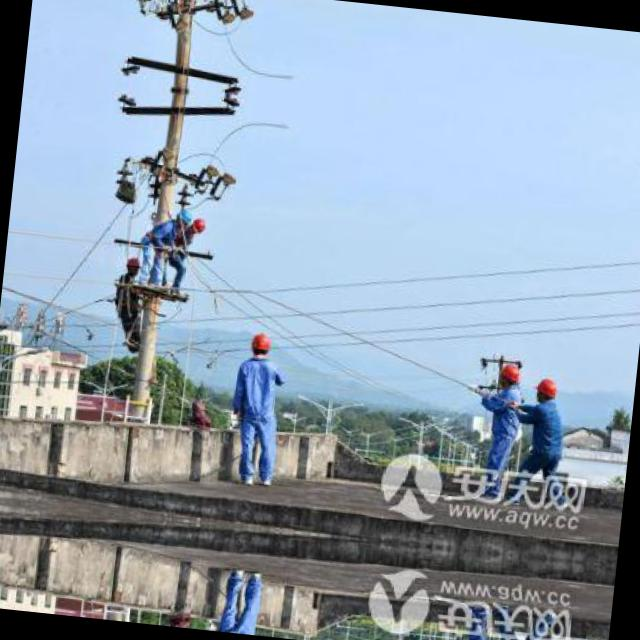helmet: (247, 326, 276, 361), (528, 374, 558, 406), (496, 361, 520, 393), (118, 255, 140, 278), (172, 206, 190, 234), (188, 214, 208, 237)
